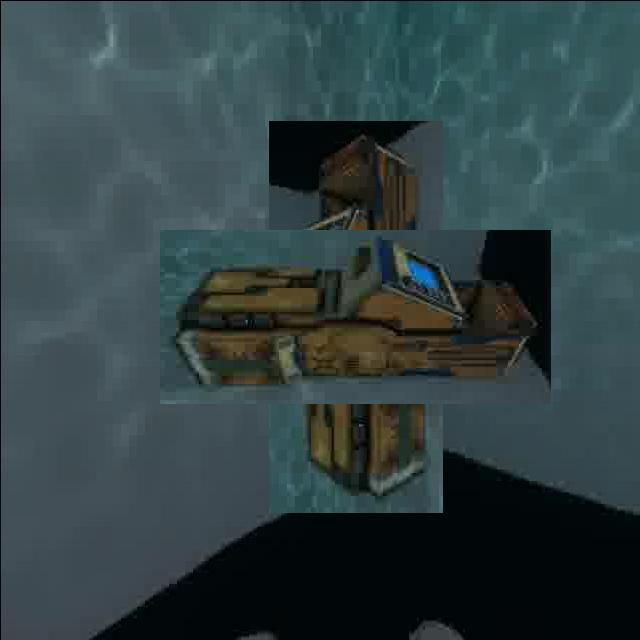Control Panel: (214, 175, 496, 458)
